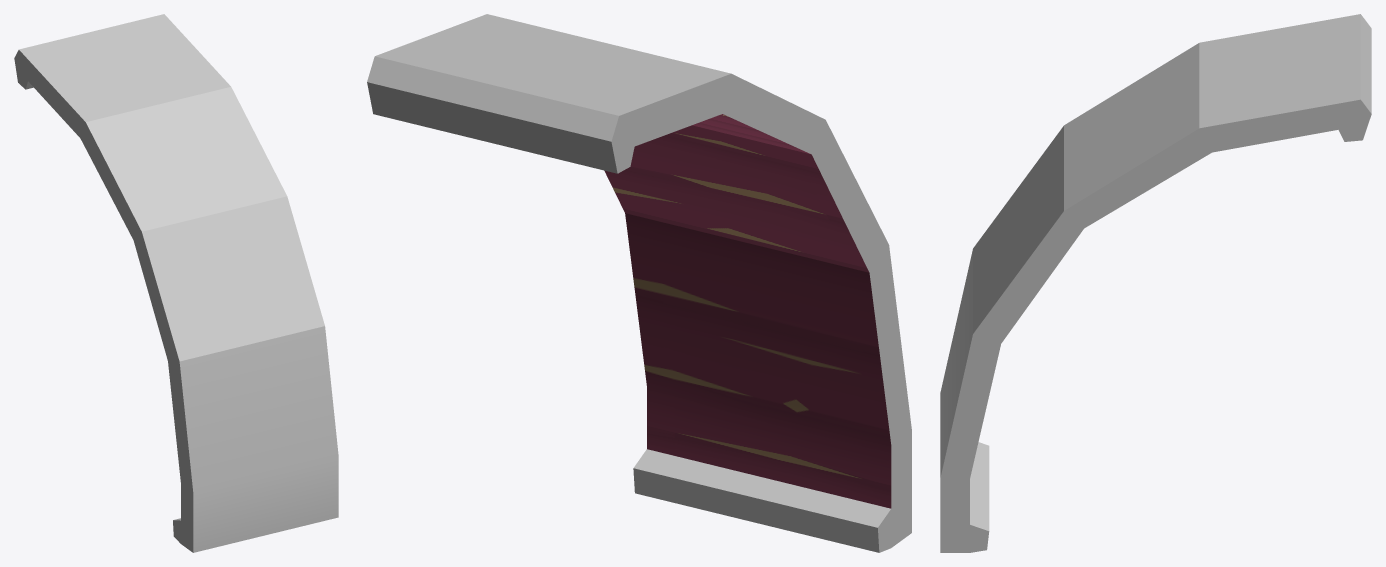
The model's file is SM_Bld_Roof_Convex_Half_01.fbx.
3 views of the same model, side by side, from view 1: azimuth 30°, elevation 25°; view 2: azimuth 150°, elevation 25°; view 3: azimuth 270°, elevation 25° (orthographic). The views are drawn at different scales.
Visible parts, largest first — view 1: SM_Bld_Roof_Convex_Half_01; view 2: SM_Bld_Roof_Convex_Half_01; view 3: SM_Bld_Roof_Convex_Half_01.
Boxes of the visible parts, x1,y1,x2,y2 form: SM_Bld_Roof_Convex_Half_01: [14, 14, 338, 552]; SM_Bld_Roof_Convex_Half_01: [367, 14, 911, 552]; SM_Bld_Roof_Convex_Half_01: [940, 14, 1371, 552].
Bounding box in the file's own units: 125 × 309 × 266.
